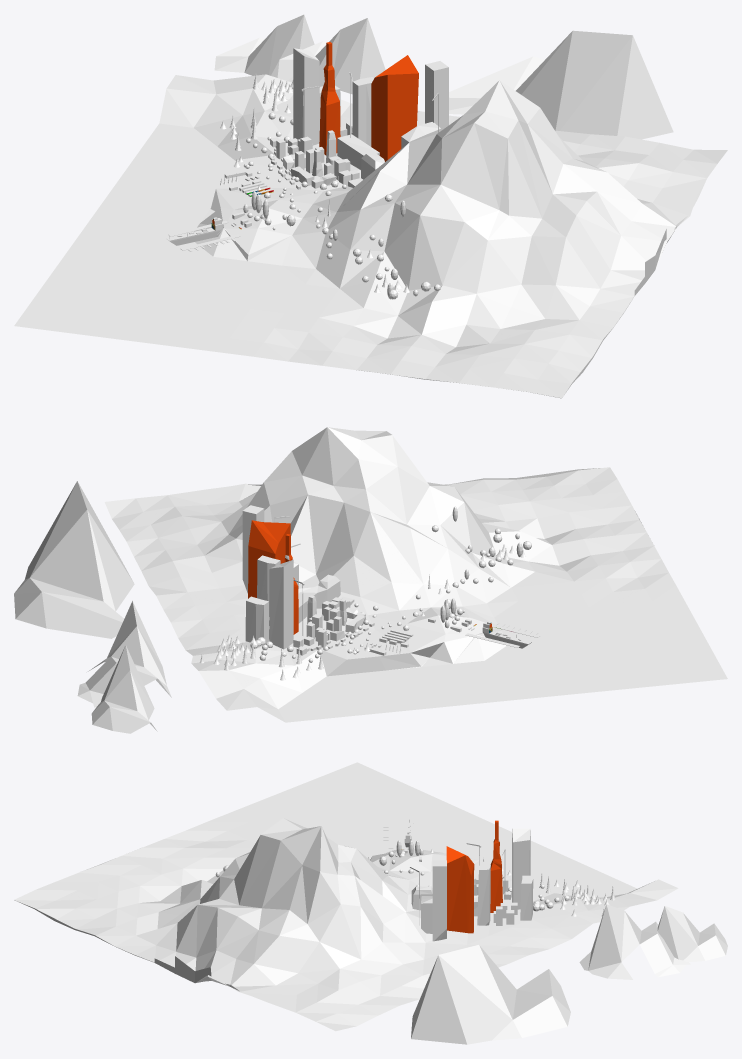
3 views of the same model, one above another, from view 1: azimuth 30°, elevation 25°; view 2: azimuth 150°, elevation 25°; view 3: azimuth 270°, elevation 25° (orthographic). The views are drawn at different scales.
Visible parts, largest first — view 1: sol_et_iles, buildings, sapins.1, black_building, port.1, Cube.1; view 2: sol_et_iles, buildings, sapins.1, black_building, port.1, Cube.1, entrepot; view 3: sol_et_iles, buildings, sapins.1, black_building, port.1.
Boxes of the visible parts, x1=… form: sol_et_iles: x1=14, y1=14, x2=727, y2=398; buildings: x1=293, y1=42, x2=448, y2=179; sapins.1: x1=220, y1=72, x2=440, y2=299; black_building: x1=270, y1=121, x2=441, y2=187; port.1: x1=166, y1=212, x2=251, y2=251; Cube.1: x1=283, y1=139, x2=345, y2=188; sol_et_iles: x1=14, y1=427, x2=727, y2=733; buildings: x1=242, y1=505, x2=340, y2=649; sapins.1: x1=199, y1=506, x2=531, y2=680; black_building: x1=269, y1=562, x2=365, y2=655; port.1: x1=450, y1=619, x2=539, y2=648; Cube.1: x1=304, y1=597, x2=365, y2=645; entrepot: x1=364, y1=618, x2=435, y2=655; sol_et_iles: x1=14, y1=762, x2=727, y2=1044; buildings: x1=411, y1=820, x2=533, y2=941; sapins.1: x1=215, y1=840, x2=615, y2=916; black_building: x1=421, y1=877, x2=517, y2=933; port.1: x1=383, y1=820, x2=421, y2=853.
Size of the model in its own units: 141 by 30.81 by 151.
